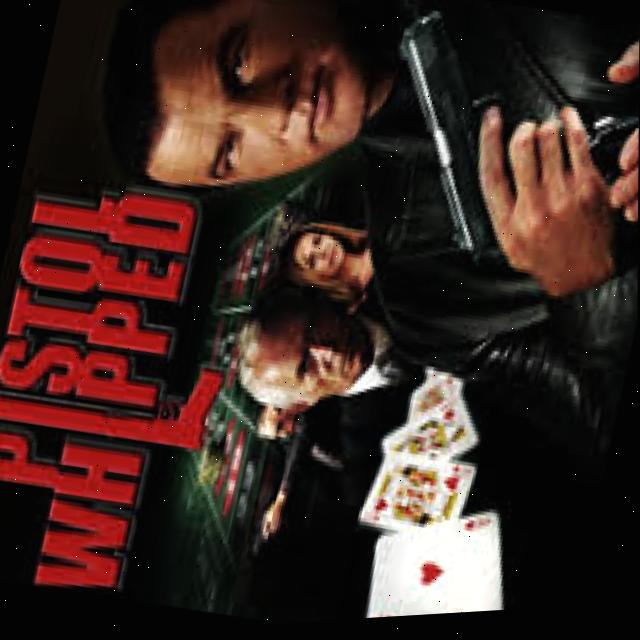pistol: (359, 3, 540, 279)
